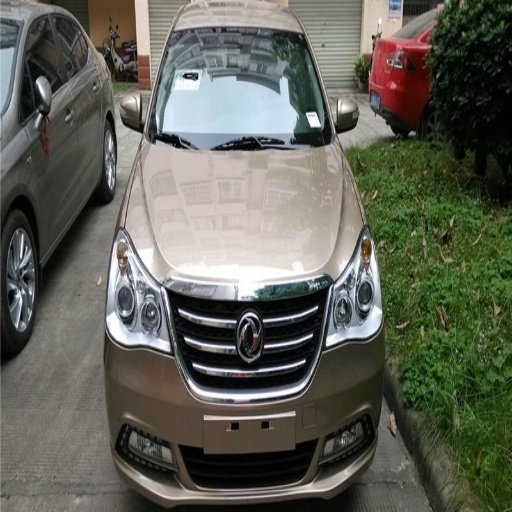front_bumper: (105, 282, 381, 499)
front_glass: (152, 27, 329, 150)
front_left_door: (26, 11, 81, 235)
front_right_light: (107, 234, 170, 354)
hood: (130, 142, 360, 301)
